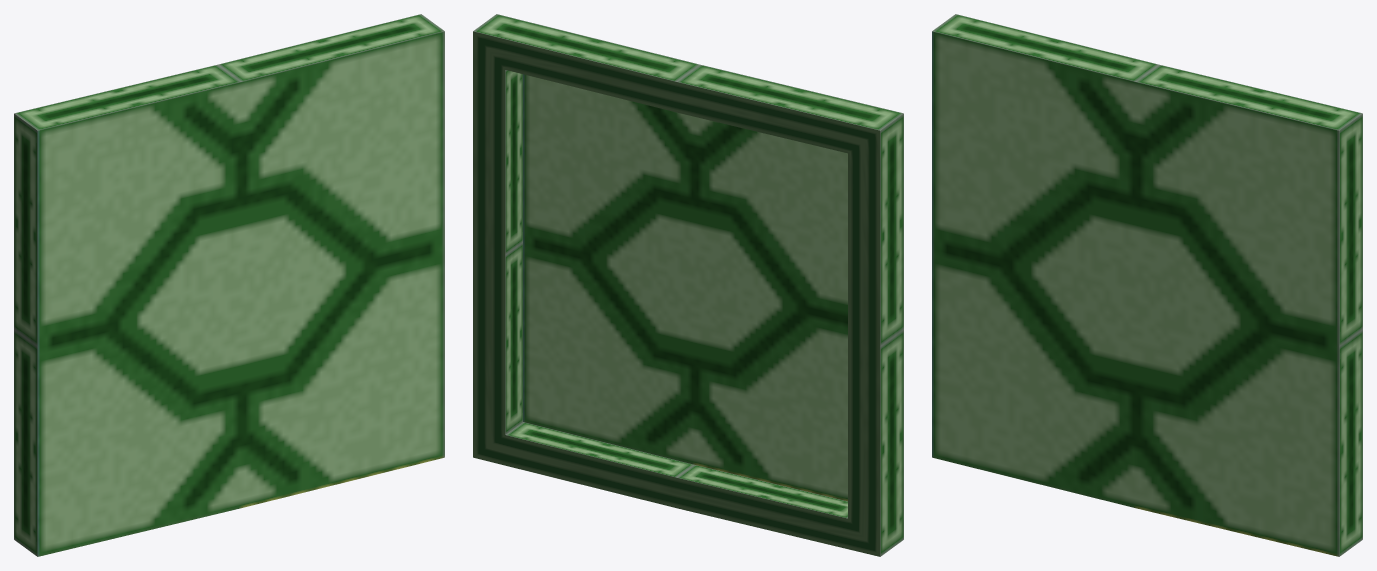
The model's file is PlatformStyle2.FBX.
3 views of the same model, side by side, from view 1: azimuth 30°, elevation 25°; view 2: azimuth 150°, elevation 25°; view 3: azimuth 330°, elevation 25° (orthographic).
Visible parts, largest first — view 1: PlatformStyle2; view 2: PlatformStyle2; view 3: PlatformStyle2.
Part boxes in pixels (x1,y1,x2,y2): PlatformStyle2: (14, 14, 444, 556); PlatformStyle2: (473, 14, 903, 556); PlatformStyle2: (932, 14, 1362, 556).
Size of the model in its own units: 40 by 40.09 by 4.02.
Materials: 1 (1 with a texture image).
